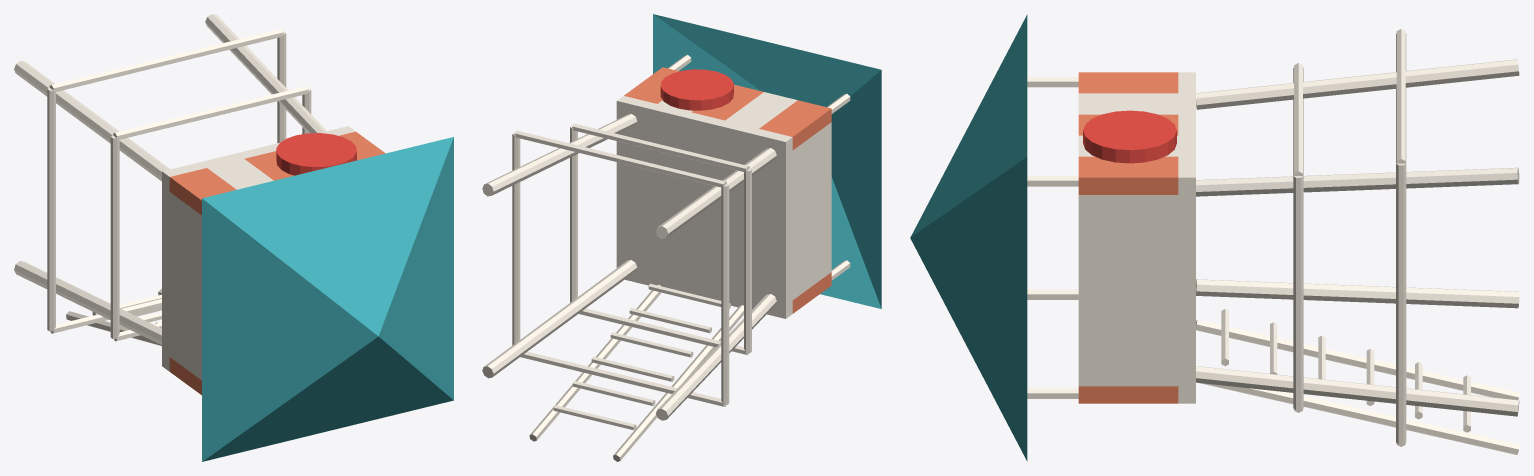
The model's file is vigie.glb.
3 renders of one model, left to right at view 1: azimuth 30°, elevation 25°; view 2: azimuth 150°, elevation 25°; view 3: azimuth 270°, elevation 25°, orthographic. The views are drawn at different scales.
Visible parts, largest first — view 1: toit, flanc, plancher, bouee, pied.001, pied, pied.003, traverse.003, traverse.002, traverse.007, traverse.006, rayure (+7 smaller); view 2: plancher, toit, flanc, pied.002, bouee, pied.003, pied, traverse.003, rayure, pied.001, traverse.001, traverse.002 (+17 smaller); view 3: toit, flanc.001, plancher, pied.001, pied.002, pied, pied.003, bouee, rayure.008, traverse.001, limon.001, limon (+6 smaller).
Boxes of the visible parts, x1,y1,x2,y2 form: toit: (202,137,453,461); flanc: (169,192,201,380); plancher: (162,126,355,371); bouee: (276,133,356,175); pied.001: (14,60,170,181); pied: (14,261,161,344); pied.003: (205,14,326,133); traverse.003: (47,87,55,331); traverse.002: (49,29,283,91); traverse.007: (110,135,119,338); traverse.006: (113,86,308,139); rayure: (169,168,236,214); plancher: (616,96,792,318); toit: (653,14,881,308); flanc: (792,122,831,299); pied.002: (482,260,637,378); bouee: (660,69,733,110); pied.003: (482,114,637,196); pied: (656,294,776,420); traverse.003: (721,183,729,404); rayure: (759,100,831,150); pied.001: (656,148,776,238); traverse.001: (512,132,520,345); traverse.002: (514,130,726,187); toit: (910,14,1027,461); flanc.001: (1078,195,1178,386); plancher: (1178,72,1195,403); pied.001: (1196,59,1519,109); pied.002: (1196,366,1519,416); pied: (1196,279,1519,308); pied.003: (1196,167,1519,196); bouee: (1083,110,1176,163); rayure.008: (1078,156,1178,194); traverse.001: (1396,163,1406,444); limon.001: (1199,383,1519,454); limon: (1196,320,1519,399).
Size of the model in its own units: 2.3 by 2.59 by 4.16.
